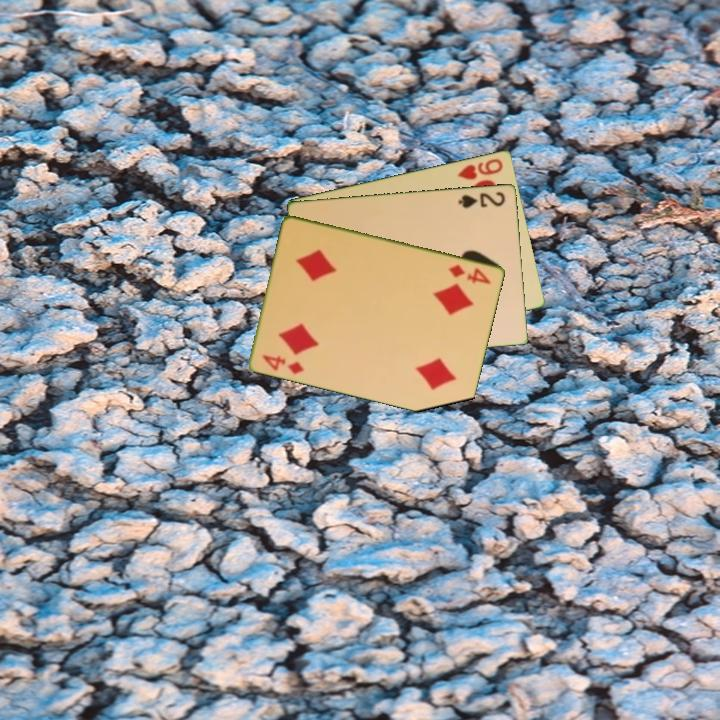2s: (455, 188, 508, 210)
4d: (445, 260, 494, 287), (259, 351, 308, 377)
9h: (454, 155, 506, 182)
